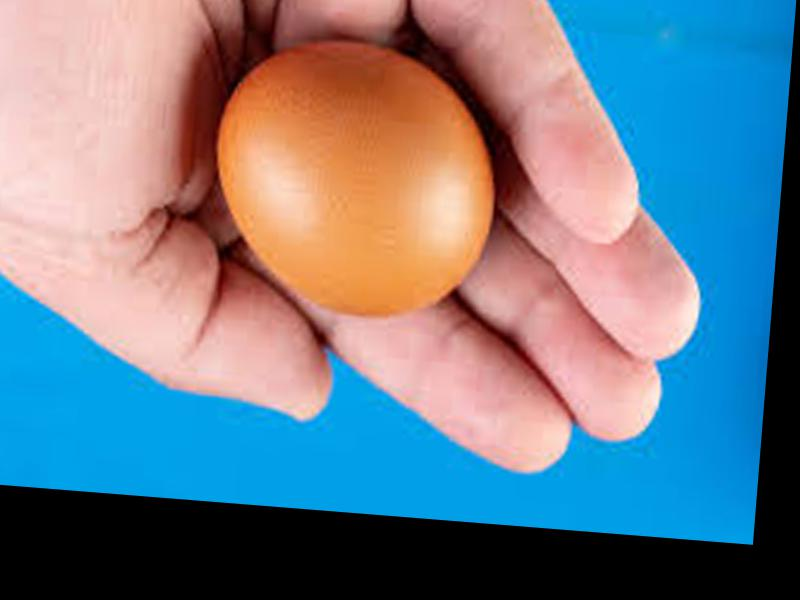Eggs: (206, 38, 508, 325)
